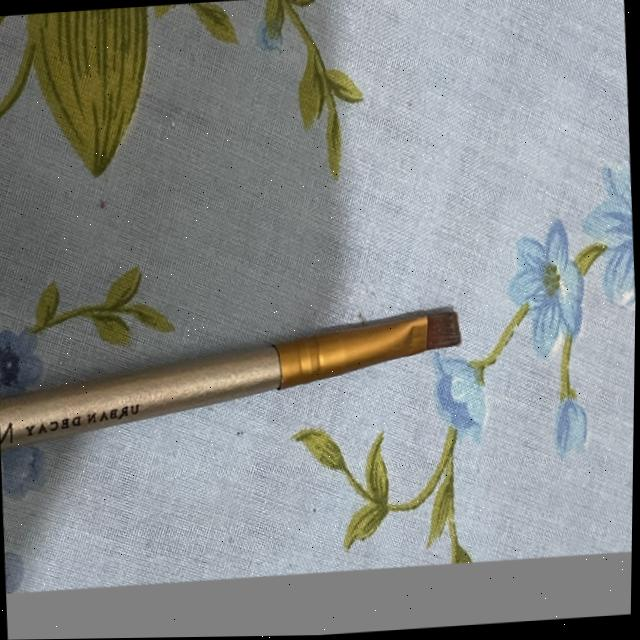brush: (0, 247, 481, 478)
